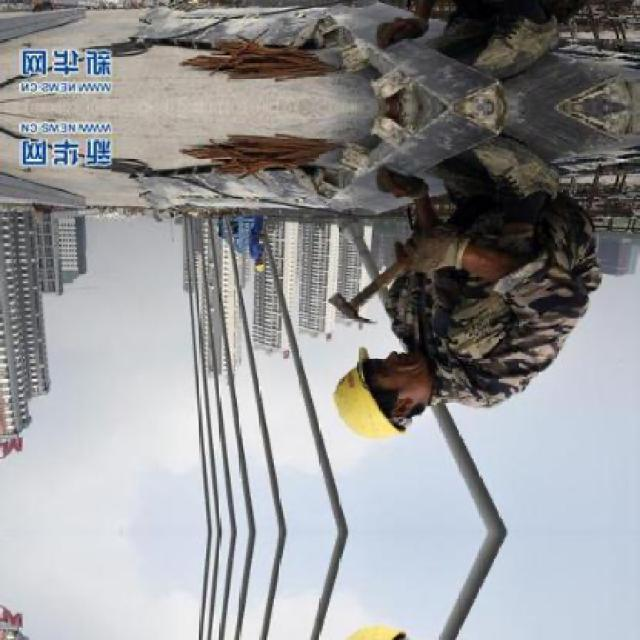con casco: (325, 353, 472, 478)
